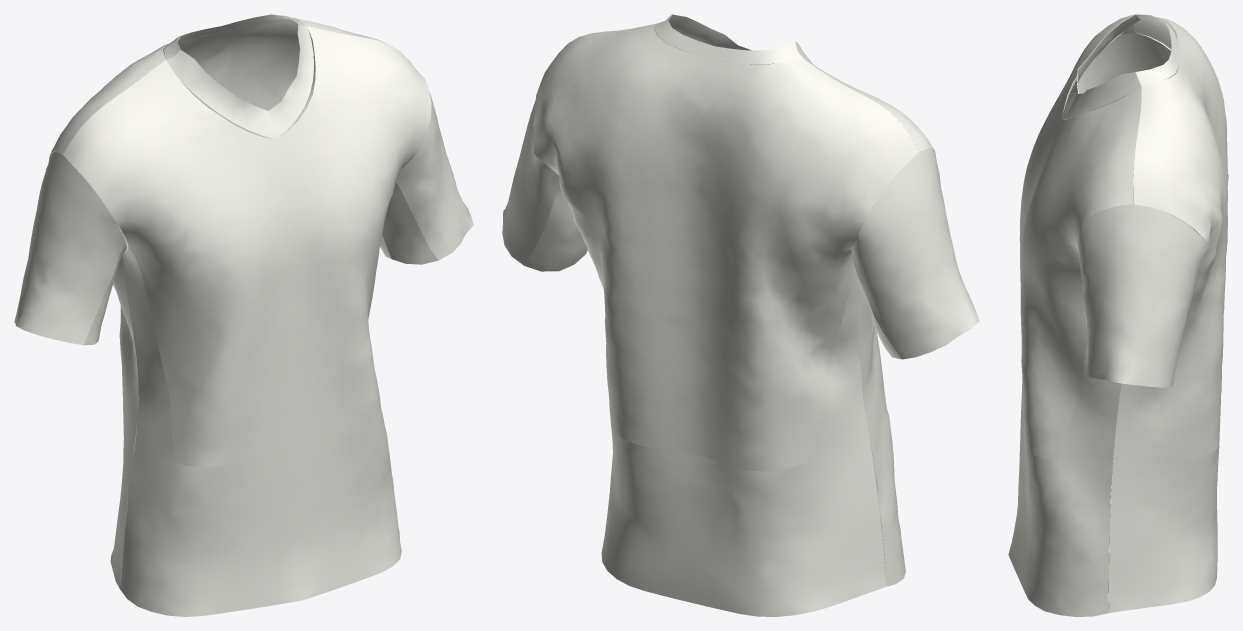
File: nsapro-jersey.glb
3 renders of one model, left to right at view 1: azimuth 30°, elevation 25°; view 2: azimuth 150°, elevation 25°; view 3: azimuth 270°, elevation 25°, orthographic. The views are drawn at different scales.
Visible parts, largest first — view 1: body (×4), sleeveL, sleeveR (×3), collar (×3); view 2: body (×4), sleeveL (×2), sleeveR, collar (×2); view 3: body (×4), sleeveR, collar (×3), sleeveL.
Part boxes in pixels (box(x1,y1,x2,y2)): body (×4): box(45, 17, 431, 616); sleeveL: box(14, 152, 125, 345); sleeveR (×3): box(84, 91, 473, 345); collar (×3): box(164, 14, 313, 139); body (×4): box(533, 23, 932, 616); sleeveL (×2): box(524, 148, 979, 359); sleeveR: box(502, 100, 559, 265); collar (×2): box(653, 14, 803, 65); body (×4): box(1008, 14, 1228, 616); sleeveR: box(1076, 204, 1209, 387); collar (×3): box(1062, 14, 1178, 119); sleeveL: box(1078, 32, 1176, 109).
Size of the model in its own units: 0.6033 by 0.6635 by 0.2569.
Materials: 1 (1 with a texture image).
